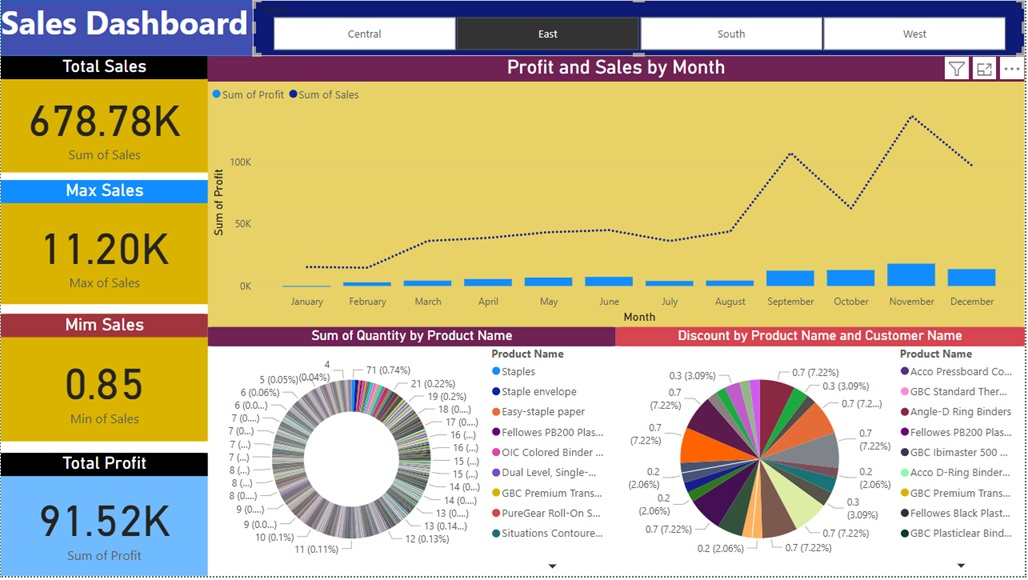

This screenshot's page, from the dashboard's own definition file:
{"tool":"powerbi","page":{"name":"Page 1","canvas":[1280,720],"ordinal":0},"visuals":[{"type":"shape","box":[0,0,1280.3,70],"z":0},{"type":"card","title":"Total   Sales","fields":{"Values":["Sum(Orders.Sales)"]},"box":[0,70,259.3,145.5],"z":1000},{"type":"card","title":"Max   Sales","fields":{"Values":["Max(Orders.Sales)"]},"box":[0,225,259.3,155.1],"z":2000},{"type":"card","title":"Mim   Sales","fields":{"Values":["Min(Orders.Sales)"]},"box":[0,392.5,259.3,159.2],"z":3000},{"type":"card","title":"Total Profit","fields":{"Values":["Sum(Orders.Profit)"]},"box":[0,566.7,259.3,153.7],"z":4000},{"type":"lineStackedColumnComboChart","title":"Profit and Sales by Month","fields":{"Category":["Orders.Order Date.Variation.Date Hierarchy.Month"],"Y2":["Sum(Orders.Sales)"],"Y":["Sum(Orders.Profit)"]},"box":[259.3,70,1020.9,338.9],"z":5000},{"type":"donutChart","fields":{"Y":["Sum(Orders.Quantity)"],"Category":["Orders.Product Name"]},"box":[259.3,409.3,510.5,311.6],"z":6000},{"type":"pieChart","title":"Discount by Product Name and Customer Name","fields":{"Category":["Orders.Product Name"],"Y":["Sum(Orders.Discount)"],"Series":["Orders.Customer Name"]},"box":[769,409,511,311],"z":7000},{"type":"slicer","fields":{"Values":["Orders.Region"]},"box":[315.1,0,965.1,69.8],"z":8000}]}

Visuals, with their boxes in screenshot pixels (x1, y1, x2, y2), scaled from the page's 1280x720 canvas onto the 1028x580 screenshot:
shape: left=0, top=0, right=1027, bottom=56
"Total   Sales" card: left=0, top=56, right=208, bottom=174
"Max   Sales" card: left=0, top=181, right=208, bottom=306
"Mim   Sales" card: left=0, top=316, right=208, bottom=444
"Total Profit" card: left=0, top=457, right=208, bottom=579
"Profit and Sales by Month" lineStackedColumnComboChart: left=208, top=56, right=1027, bottom=329
donutChart - Sum(Orders.Quantity) x Orders.Product Name: left=208, top=330, right=618, bottom=579
"Discount by Product Name and Customer Name" pieChart: left=618, top=329, right=1027, bottom=579
slicer - Orders.Region: left=253, top=0, right=1027, bottom=56
